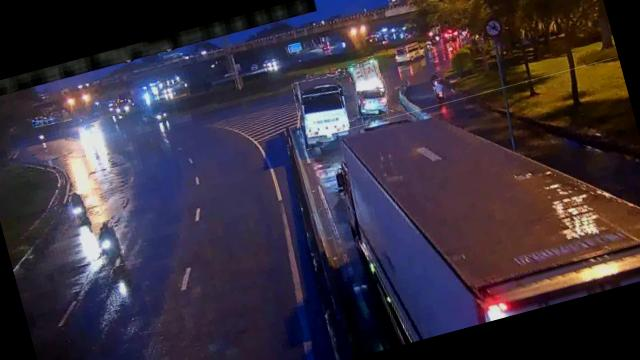Bike: (92, 218, 126, 269), (68, 190, 90, 224), (432, 78, 446, 100)
Car: (353, 84, 390, 120)
Truck: (324, 55, 640, 348), (289, 72, 352, 150), (348, 56, 386, 102)
